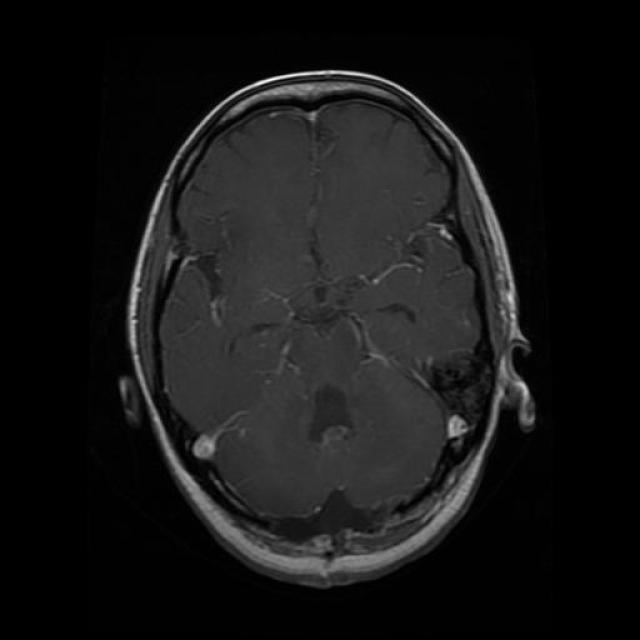glioma: (304, 380, 362, 450)
